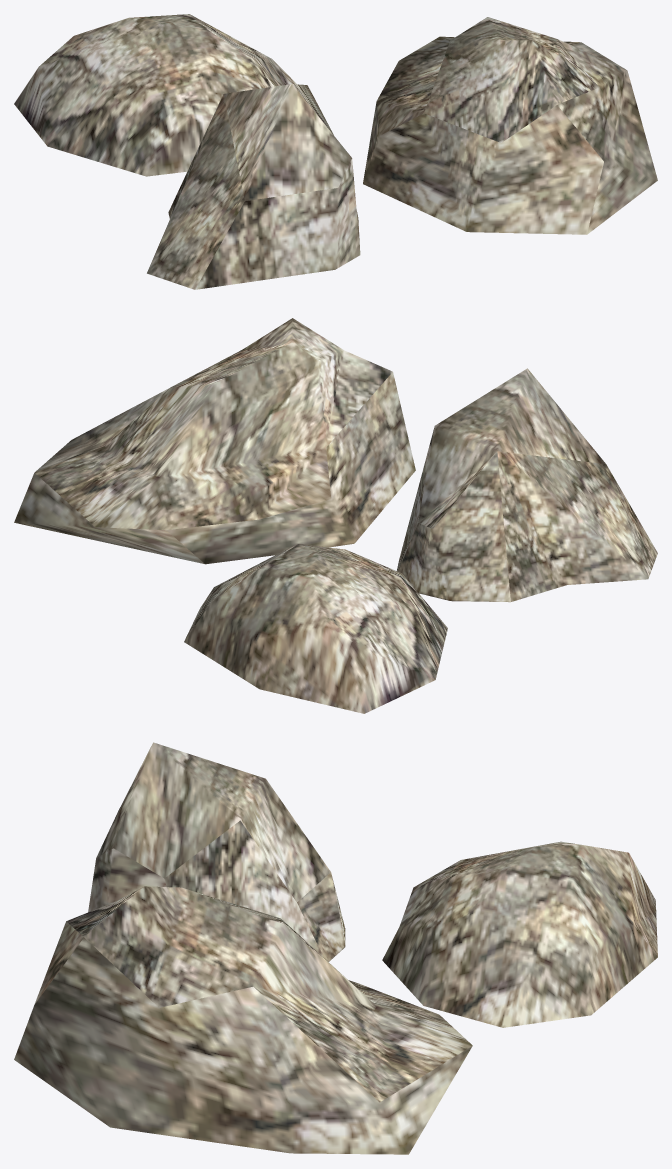
The model's file is geo_medit_05.dae.
3 renders of one model, top to bottom at view 1: azimuth 30°, elevation 25°; view 2: azimuth 150°, elevation 25°; view 3: azimuth 270°, elevation 25°, orthographic. The views are drawn at different scales.
Parts seen in each view (by area): view 1: stone_granite_large_c01-Pivot; view 2: stone_granite_large_c01-Pivot; view 3: stone_granite_large_c01-Pivot.
Part boxes in pixels (box(x1,y1,x2,y2)): stone_granite_large_c01-Pivot: box(14, 14, 657, 289); stone_granite_large_c01-Pivot: box(14, 318, 657, 713); stone_granite_large_c01-Pivot: box(14, 742, 657, 1154).
Size of the model in its own units: 7.21 by 6.58 by 2.16.
